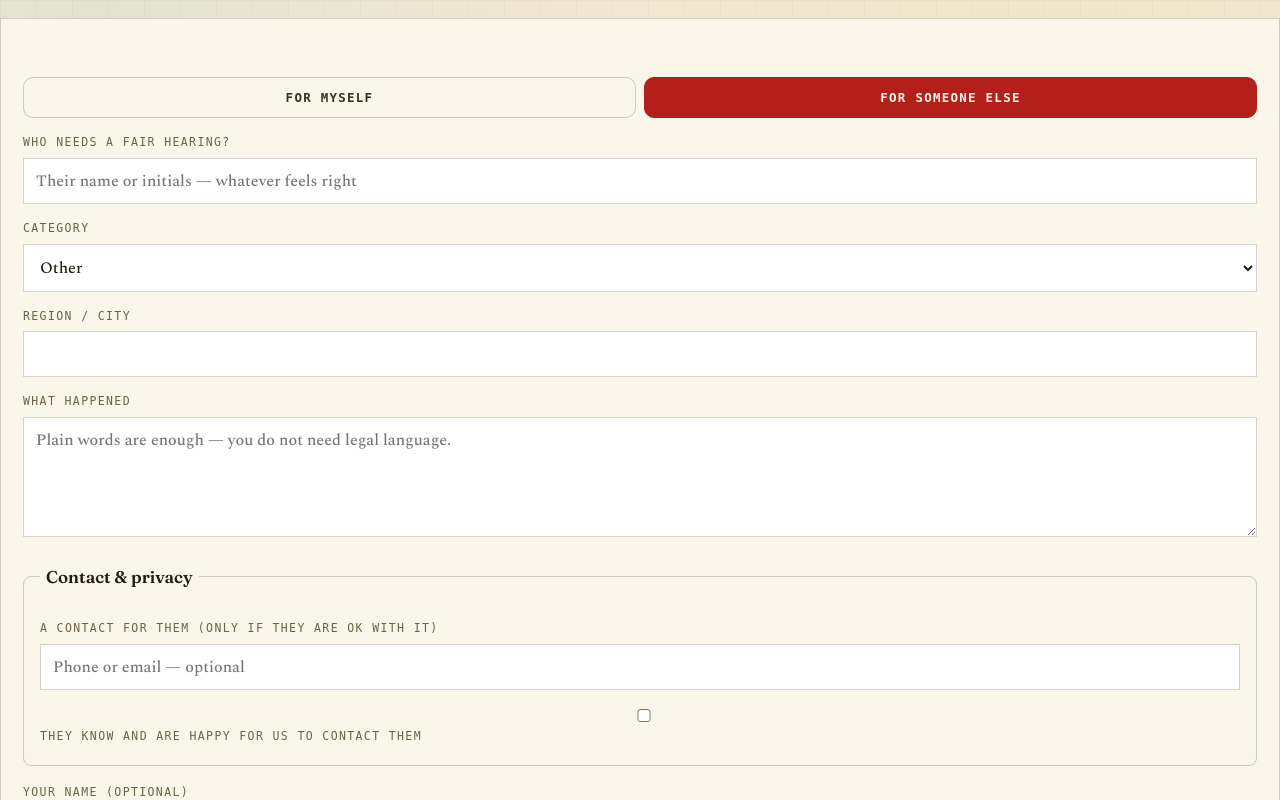
Test: IntakeForm (referral mode) › submits the referral with the contact and consent when given
Type "Anita" into the field labelled "Who needs a fair hearing?" at {"x": 640, "y": 181}, box [23,158,1257,204]
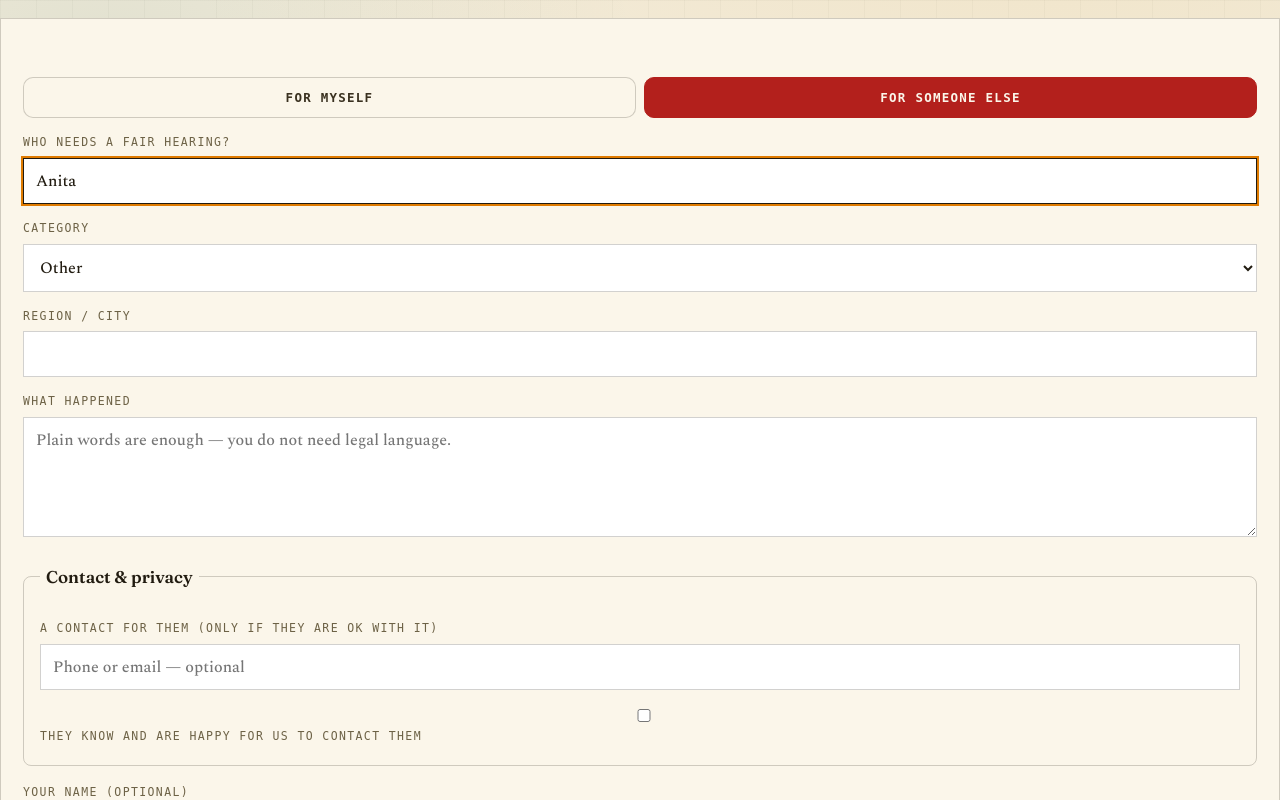
Type "Eviction without notice." into the text box labelled "What happened" at {"x": 640, "y": 477}, box [23,417,1257,537]
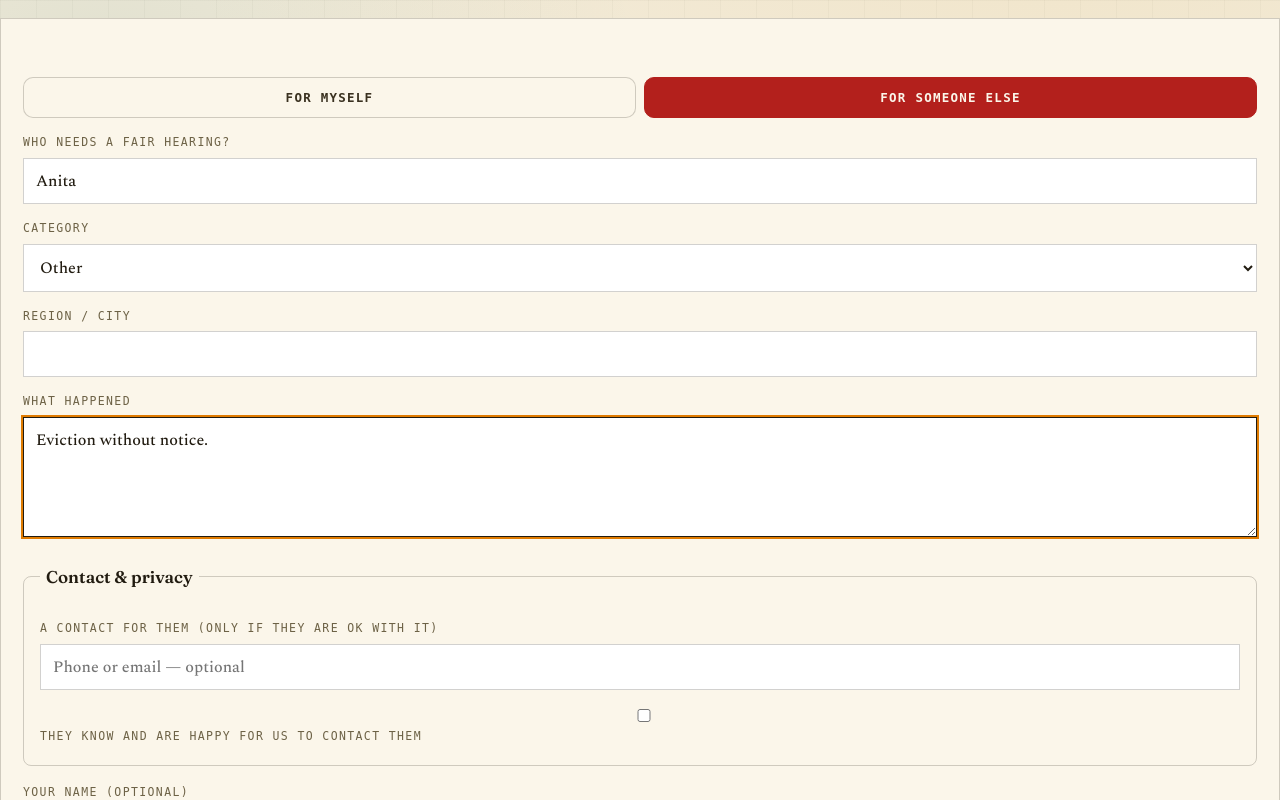
Type "anita@example.com" into the field labelled "A contact for them (only if they are OK with it)" at {"x": 640, "y": 667}, box [40,644,1240,690]
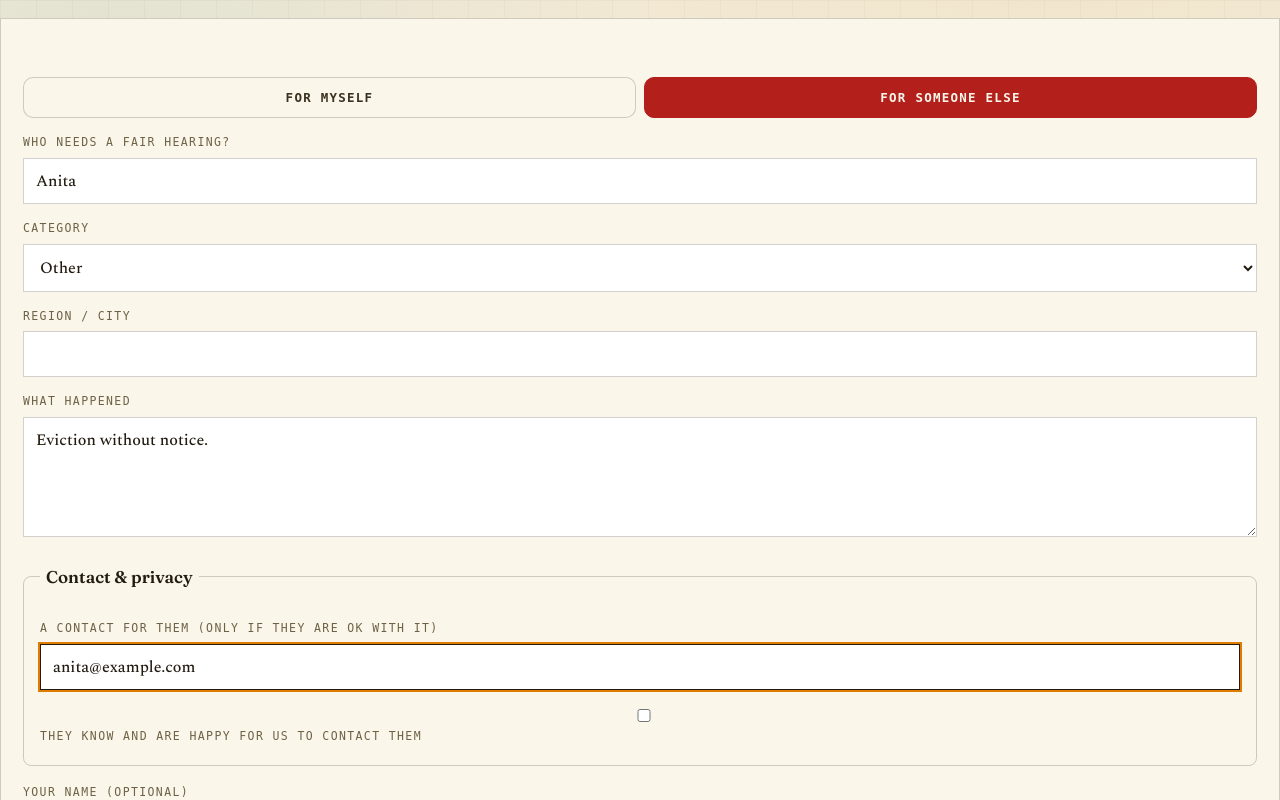
Click the checkbox labelled "They know and are happy for us to contact them" at {"x": 644, "y": 715}, box [44,709,1244,722]
(page scrolled)
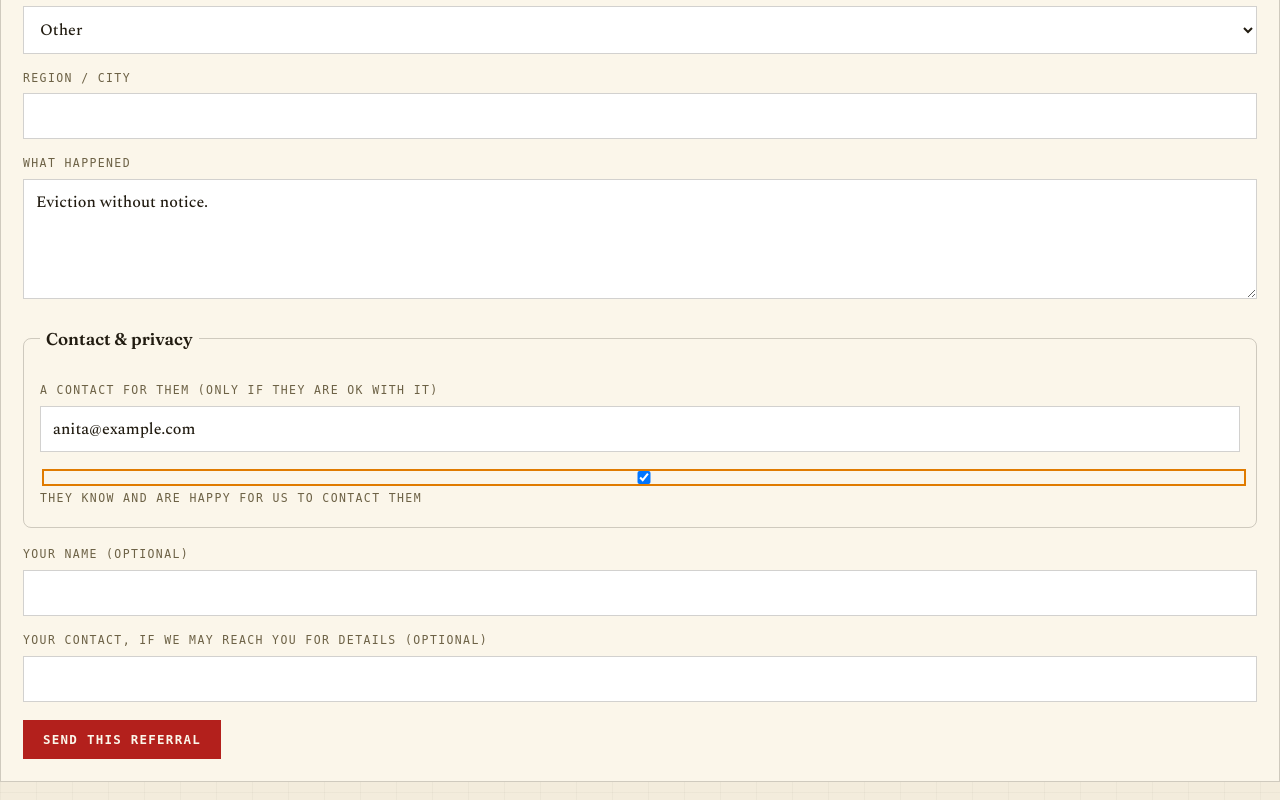
Click the button "Send this referral" at {"x": 122, "y": 740}, box [23,720,221,759]
(page scrolled)
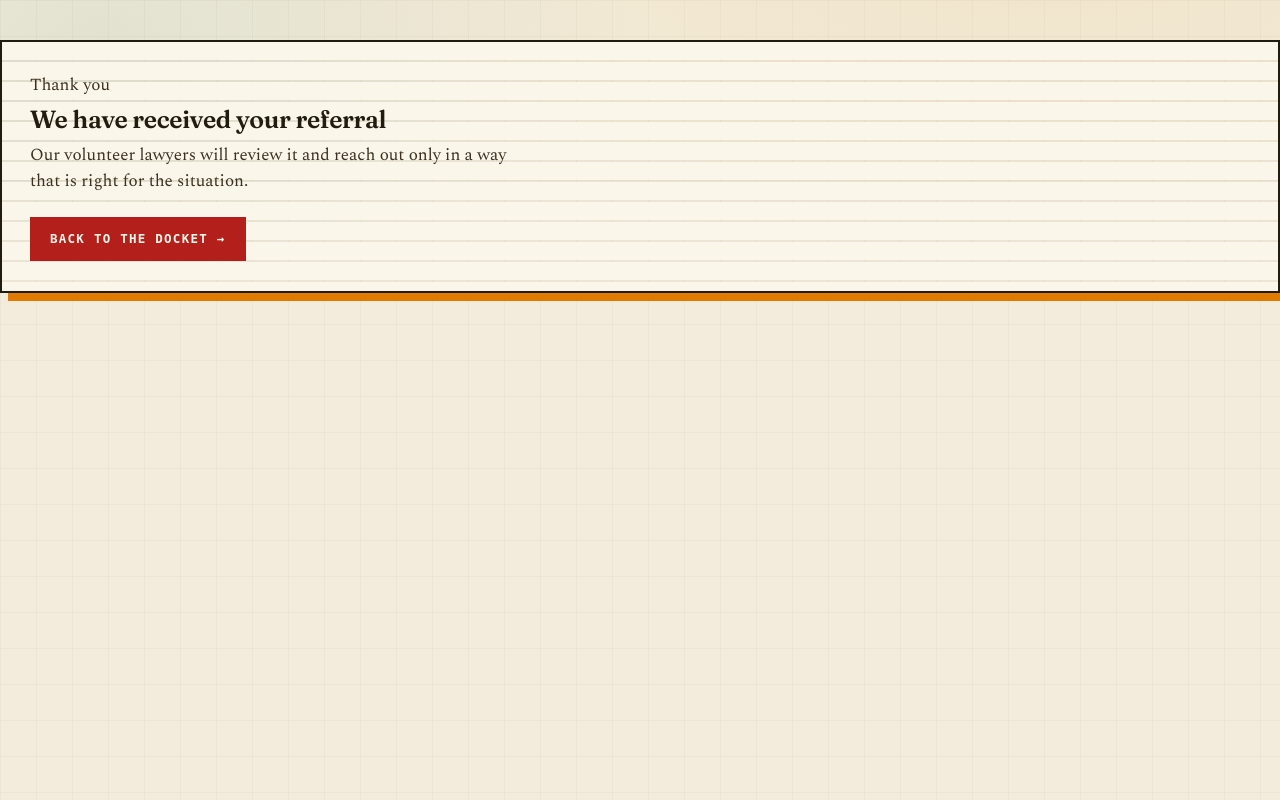
Expected: the heading "We have received your referral" is shown, [30,104,386,134]
